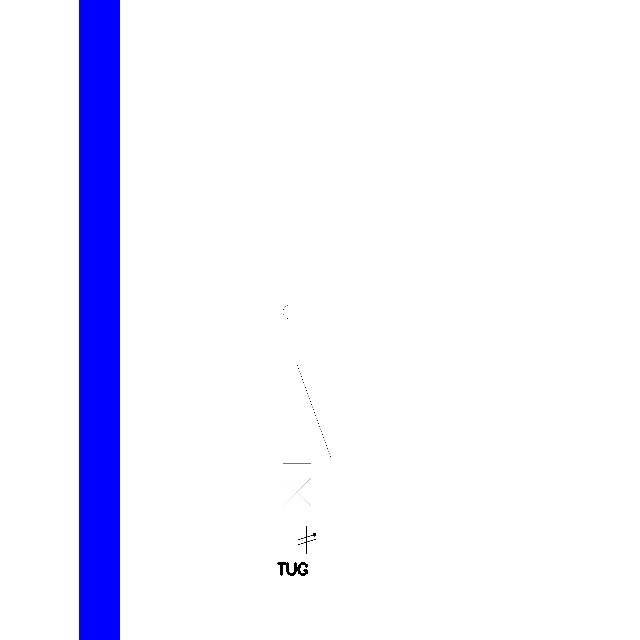interruptor_termomagnetico: (277, 281, 337, 526)
